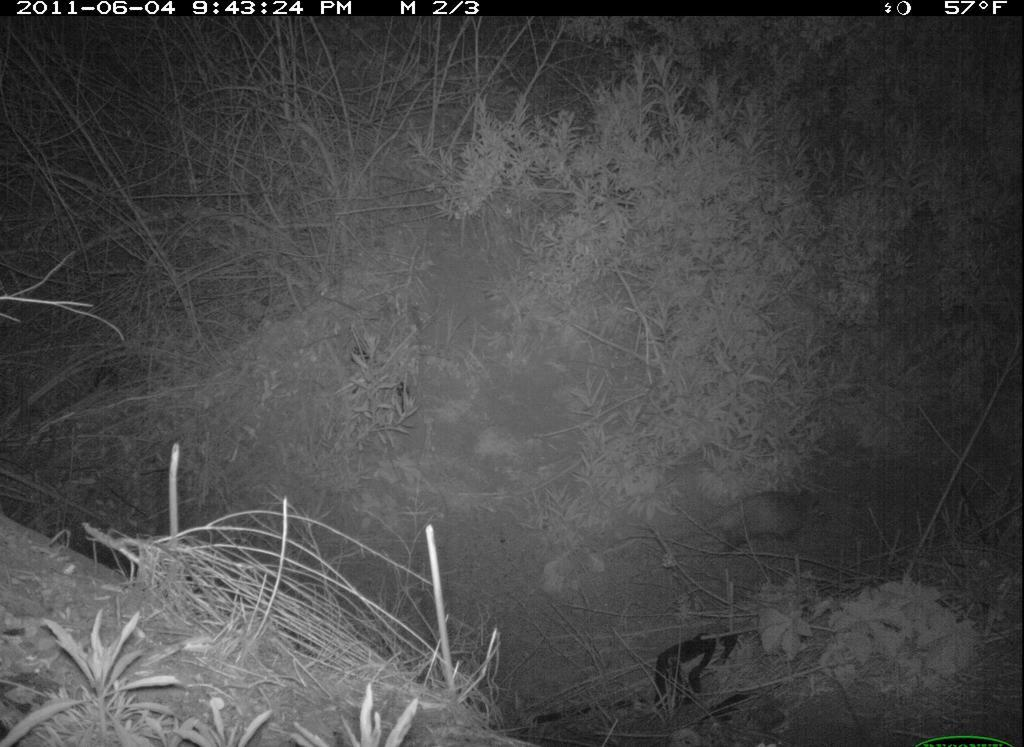opossum: (657, 477, 830, 560)
